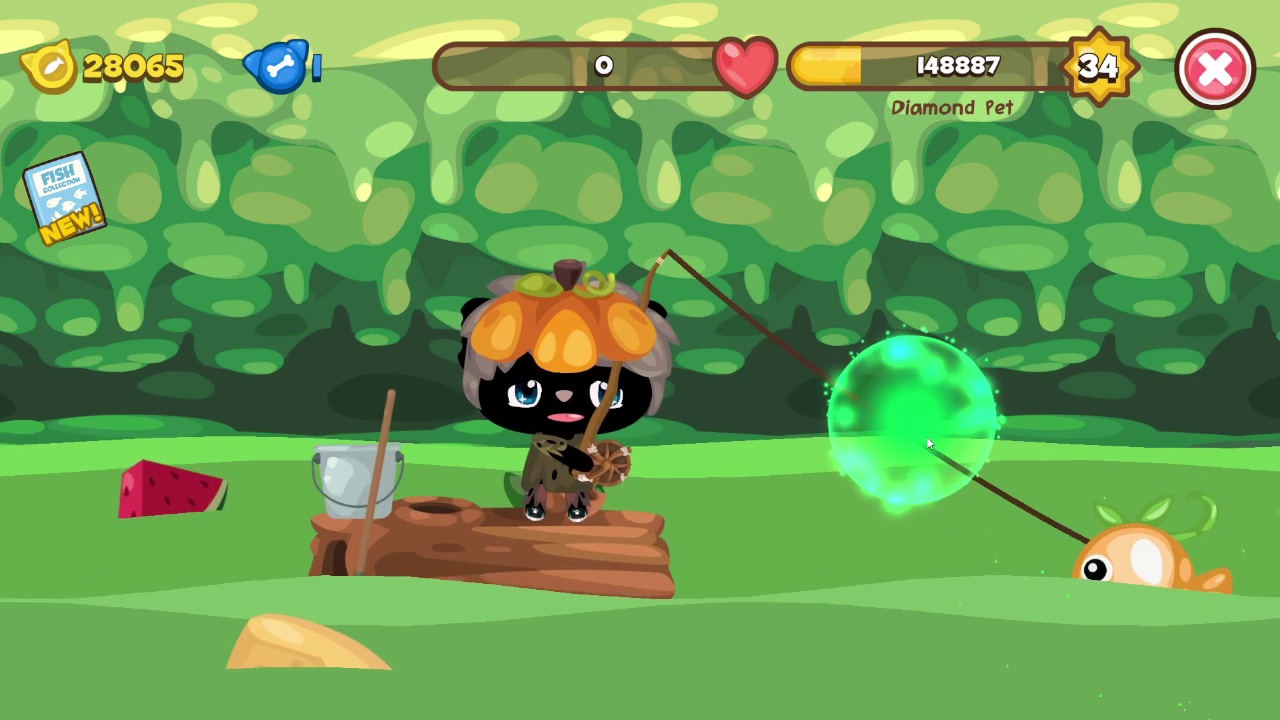point: (823, 335, 1000, 513)
